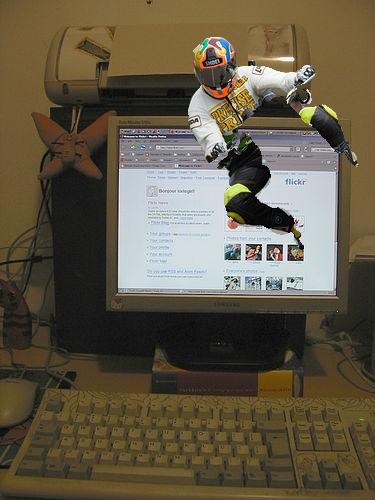tampered: (189, 38, 359, 250)
